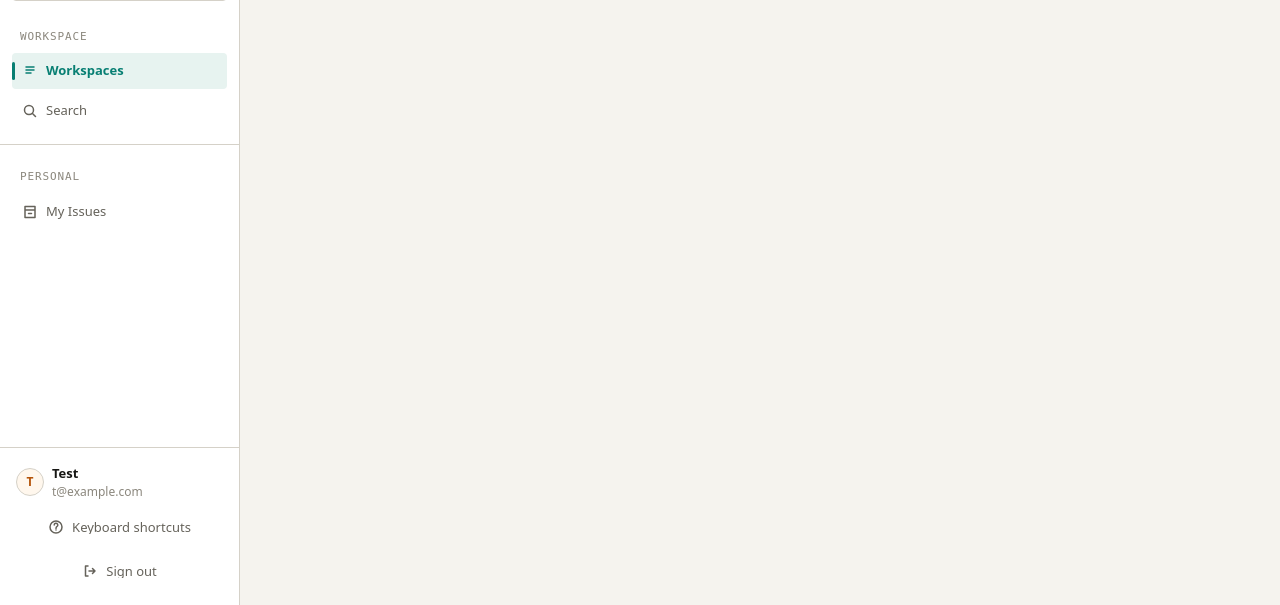
it: Layout global search trigger › opens search with / on the page body but not while typing in an input
The image size is (1280, 605).
Note: Body context: shortcut fires.
Press /
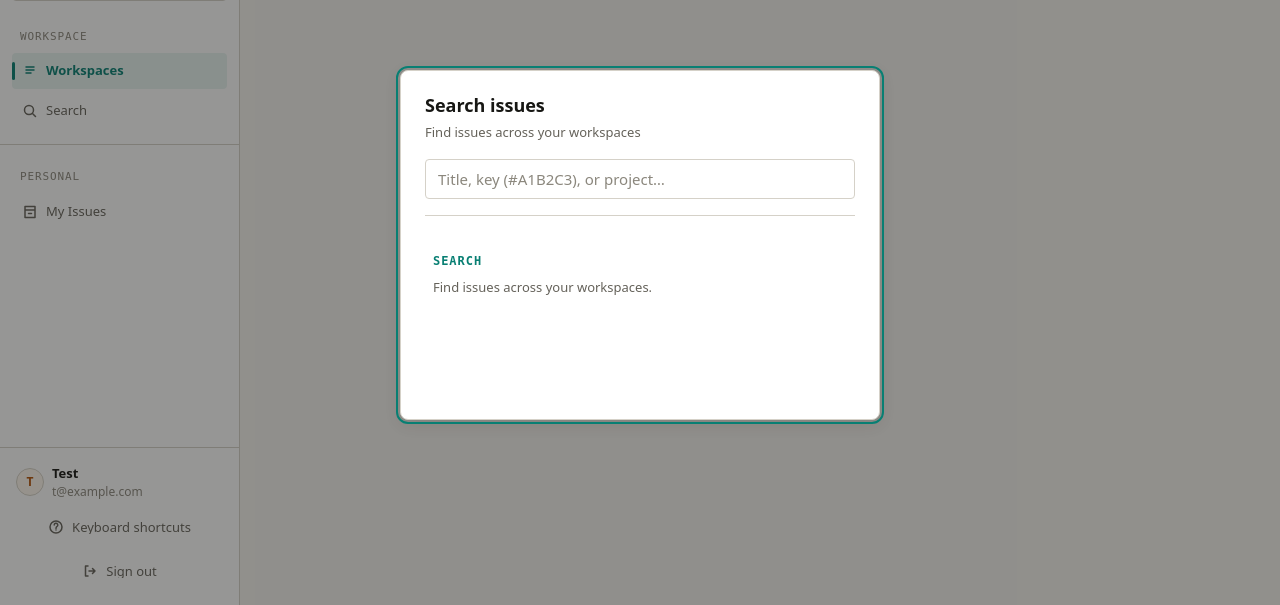
Expected: the dialog is shown
Note: Escape closes (Dialog contract).
Press Escape in the dialog, box [400,70,880,420]
(page scrolled)
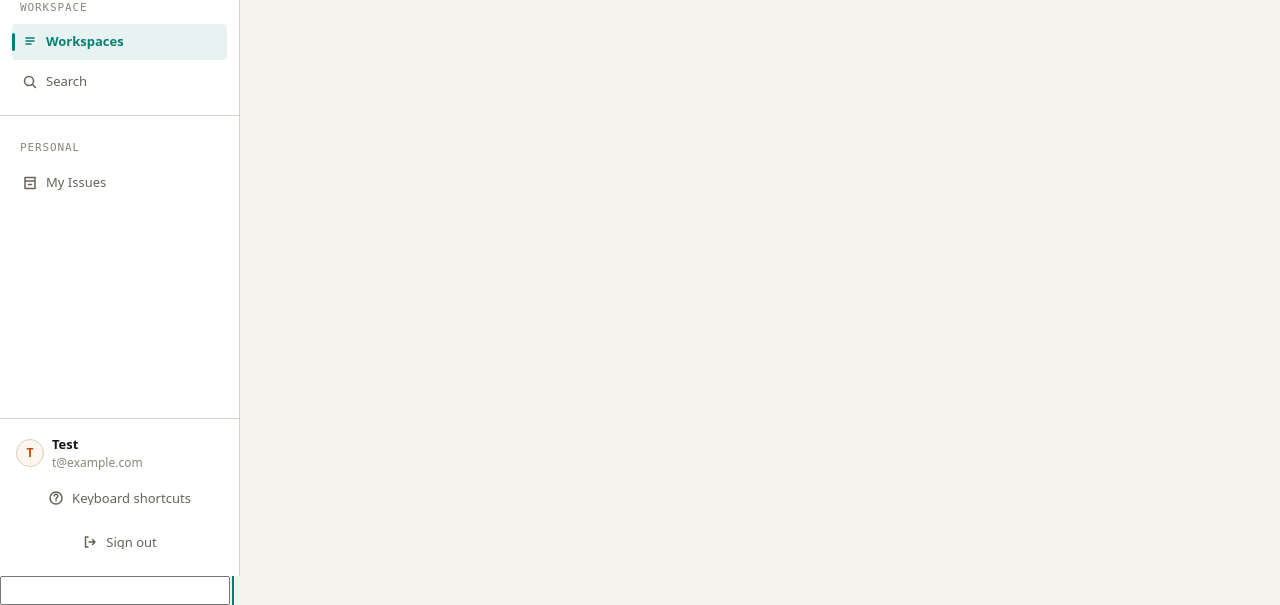
Expected: the dialog is gone
Press / in the field, box [0,576,230,604]
Note: Re-open via click still works afterwards.
Click the button with aria-label "Search issues".
click(120, 82)  # box [12,64,227,99]
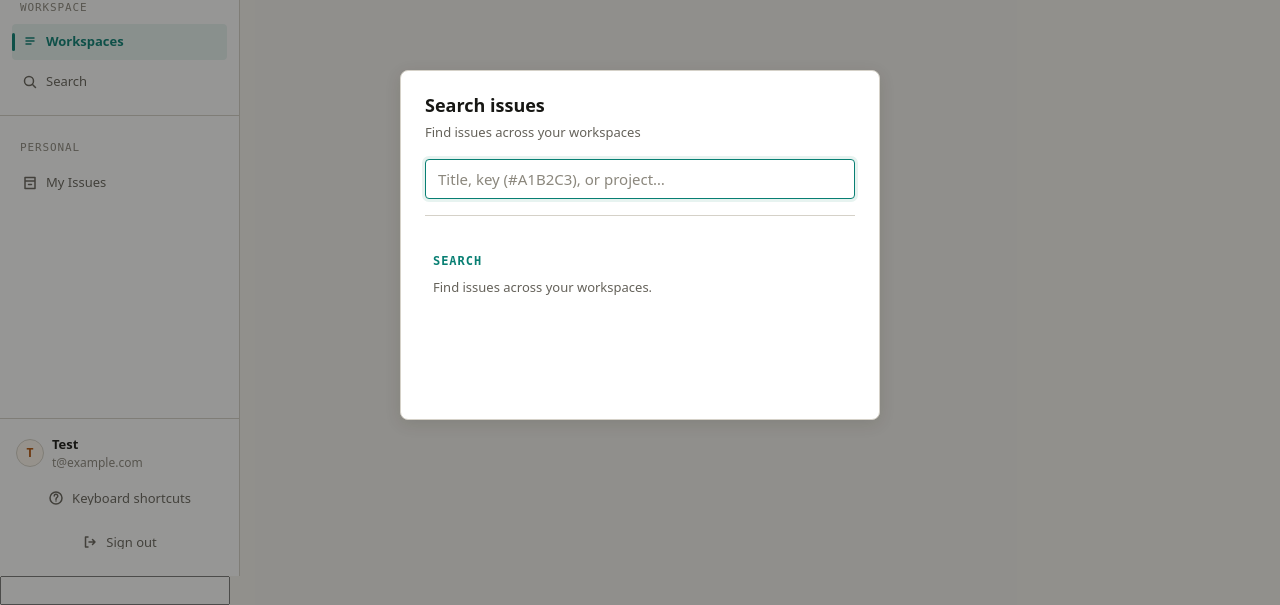
Expected: the dialog is shown, [400,70,880,420]
